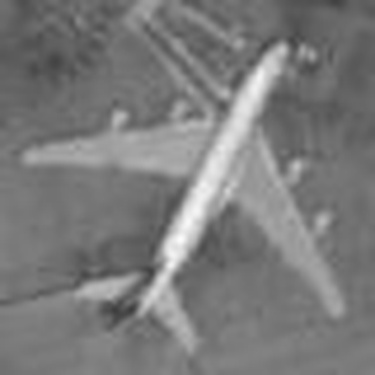airplane: (8, 19, 356, 358)
